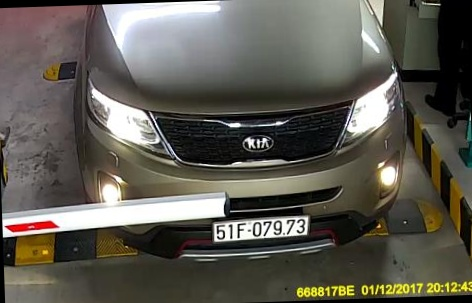plate: (206, 210, 321, 249)
